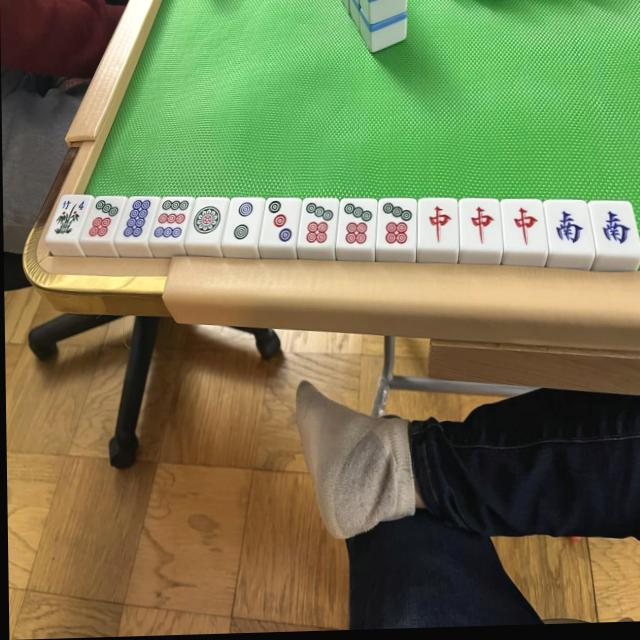1D: (194, 201, 226, 242)
2D: (228, 199, 261, 244)
3D: (266, 200, 298, 246)
4F: (52, 194, 89, 240)
7D: (341, 198, 376, 247), (380, 199, 415, 247), (303, 198, 337, 246), (87, 196, 122, 239)
8D: (120, 196, 153, 240)
9D: (156, 198, 191, 241)
RD: (420, 200, 455, 246), (508, 204, 542, 251), (463, 201, 497, 247)
SW: (597, 204, 631, 252), (552, 204, 587, 250)
